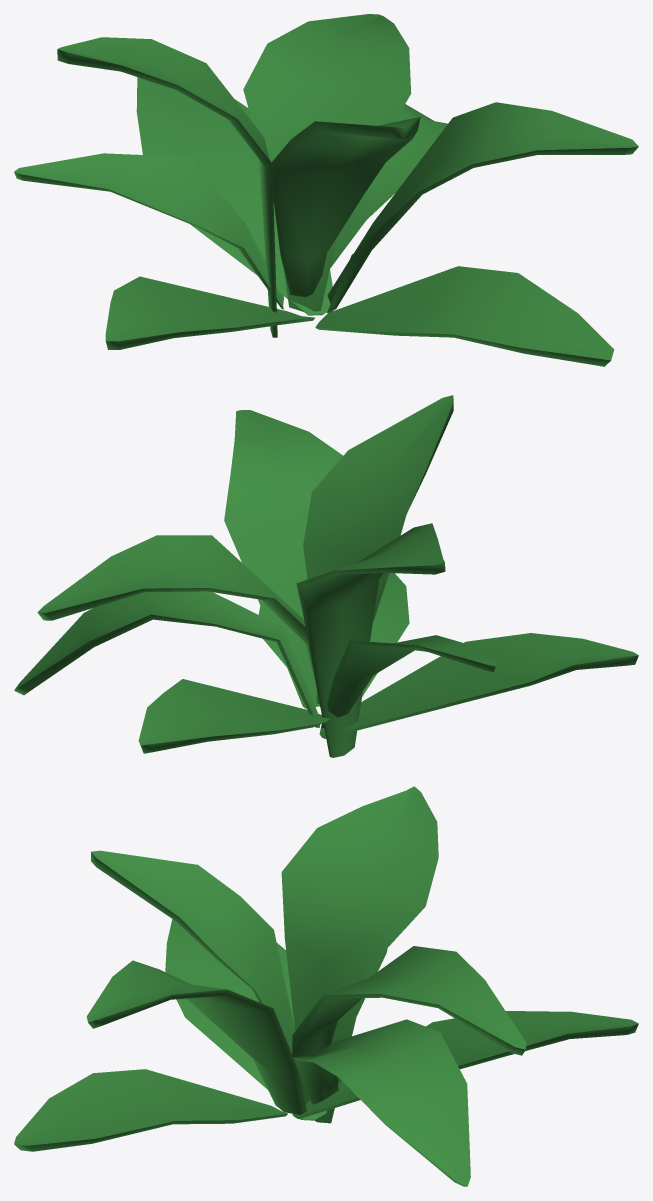
The model's file is Bush 03.FBX.
3 views of the same model, one above another, from view 1: azimuth 30°, elevation 25°; view 2: azimuth 150°, elevation 25°; view 3: azimuth 270°, elevation 25° (orthographic). The views are drawn at different scales.
Visible parts, largest first — view 1: Bush 03; view 2: Bush 03; view 3: Bush 03.
Boxes of the visible parts, x1,y1,x2,y2 form: Bush 03: (14, 14, 638, 366); Bush 03: (14, 395, 638, 757); Bush 03: (14, 786, 638, 1186).
Size of the model in its own units: 246 by 135 by 281.
